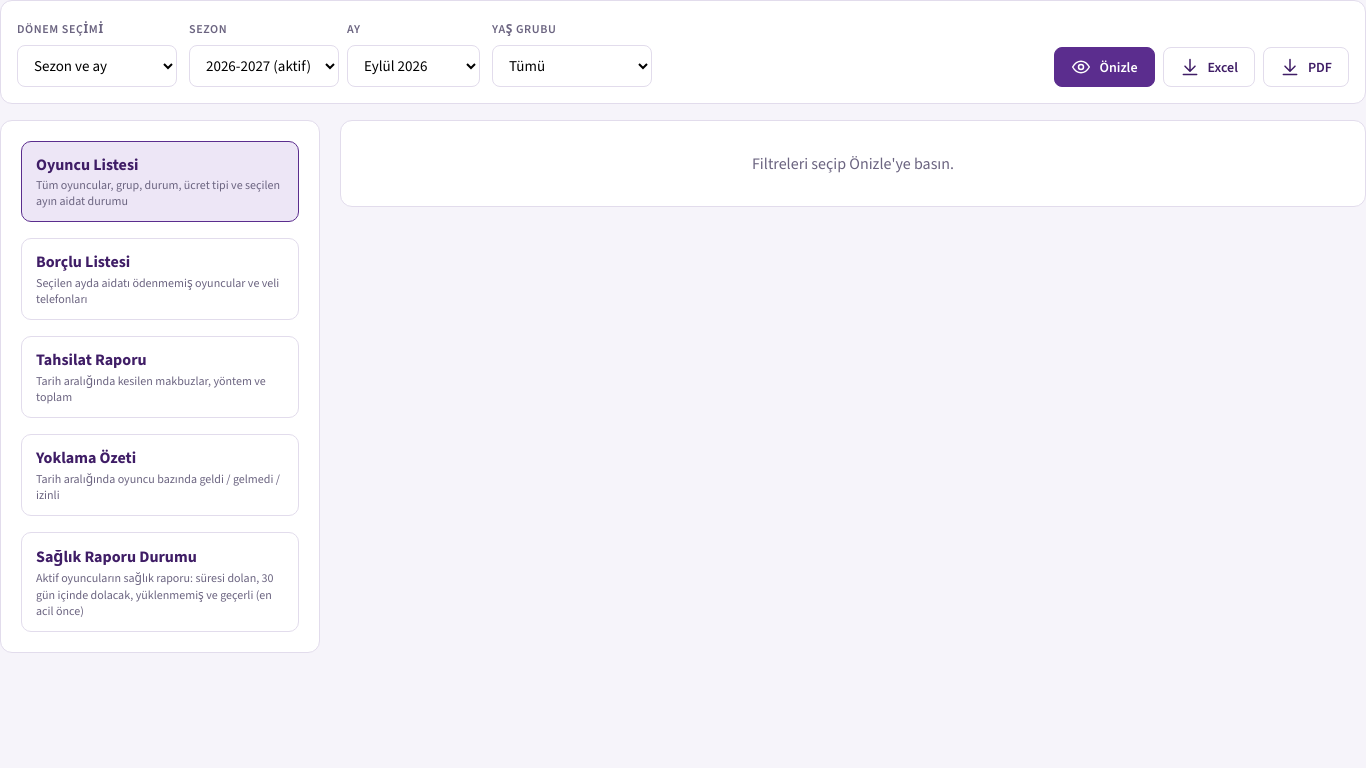
Test case: Raporlar: yeni Önizle ilk sayfaya döner › 2. sayfadayken Önizle → 1–100 gösterilir
Click the button "Önizle" at (1104, 67), box [1054, 47, 1154, 87]
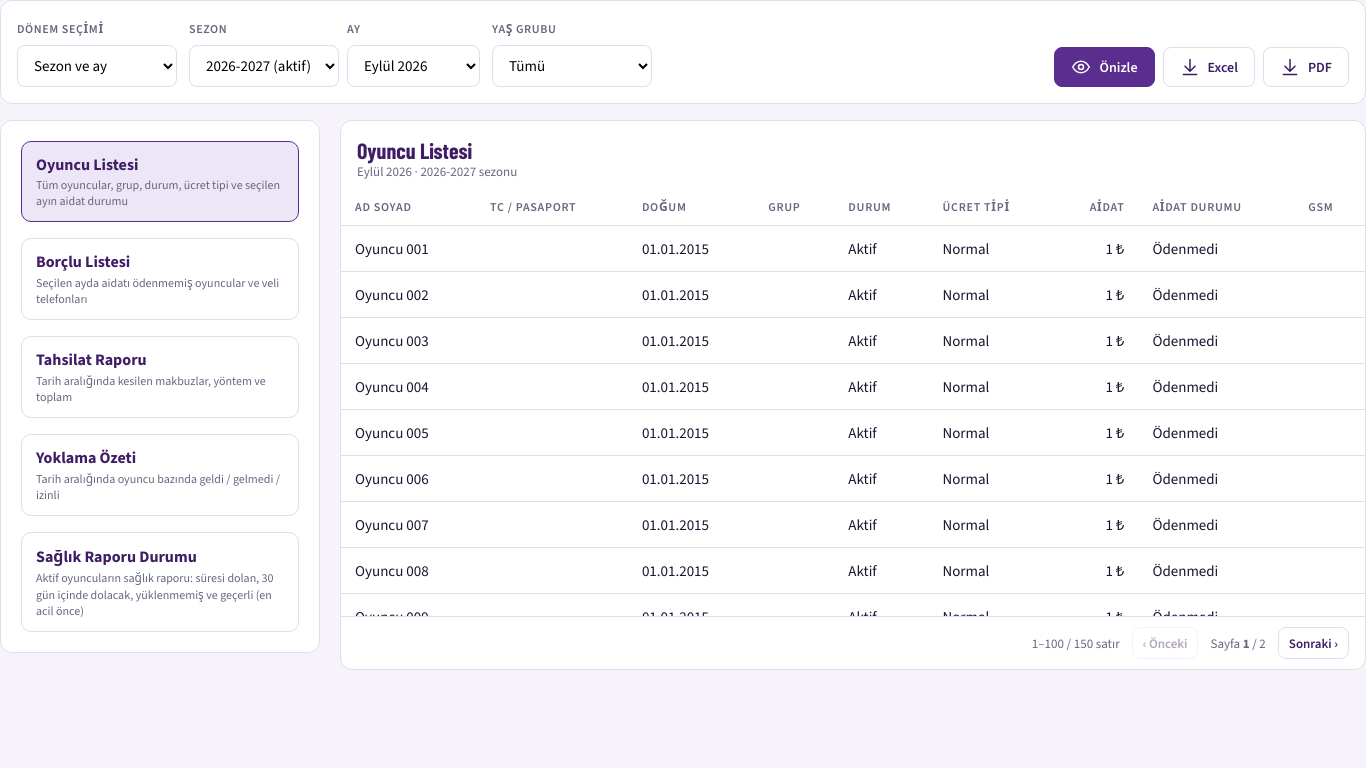
Check: the text "1–100 / 150 satır" is shown, box [1032, 634, 1120, 652]
Click the button with aria-label "Sonraki sayfa" at (1313, 643), box [1278, 627, 1349, 659]
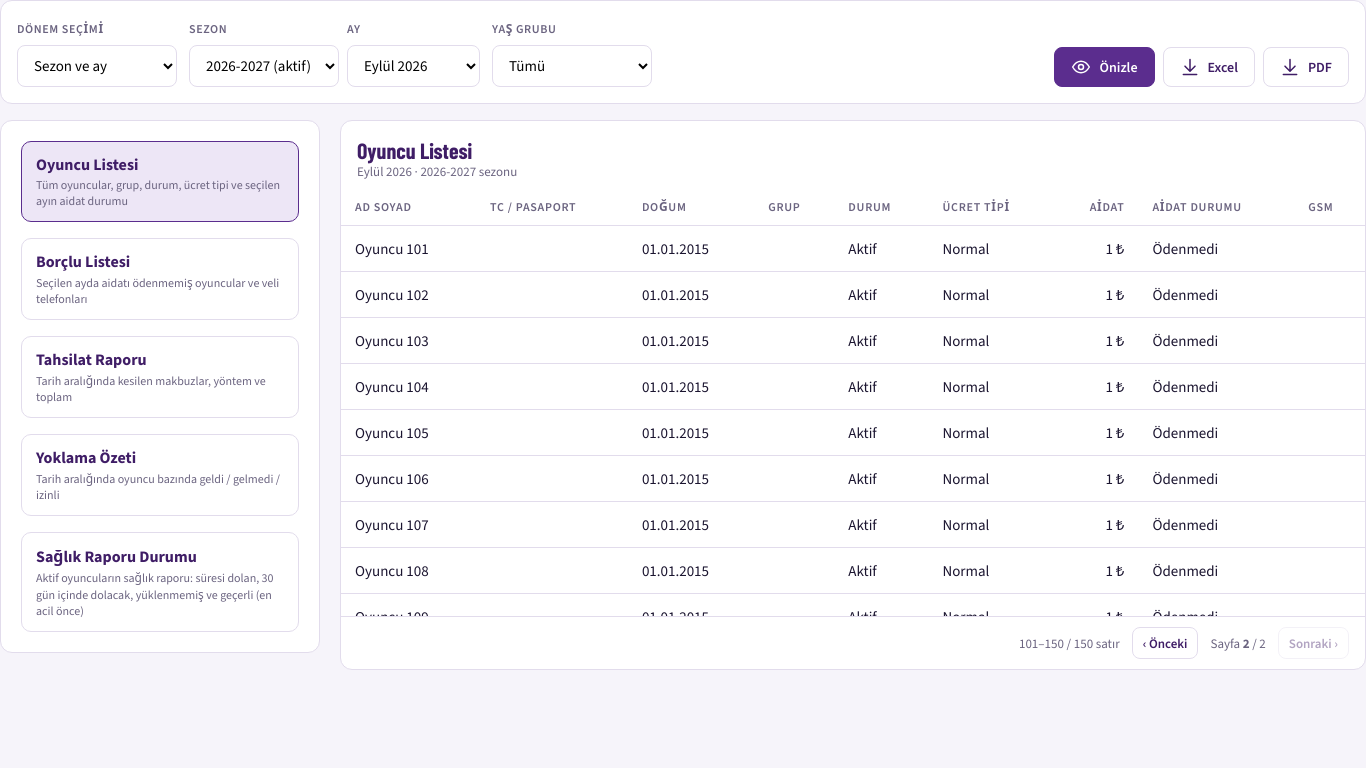
Check: the text "101–150 / 150 satır" is shown, box [1019, 634, 1120, 652]
Click the button "Önizle" at (1104, 67), box [1054, 47, 1154, 87]
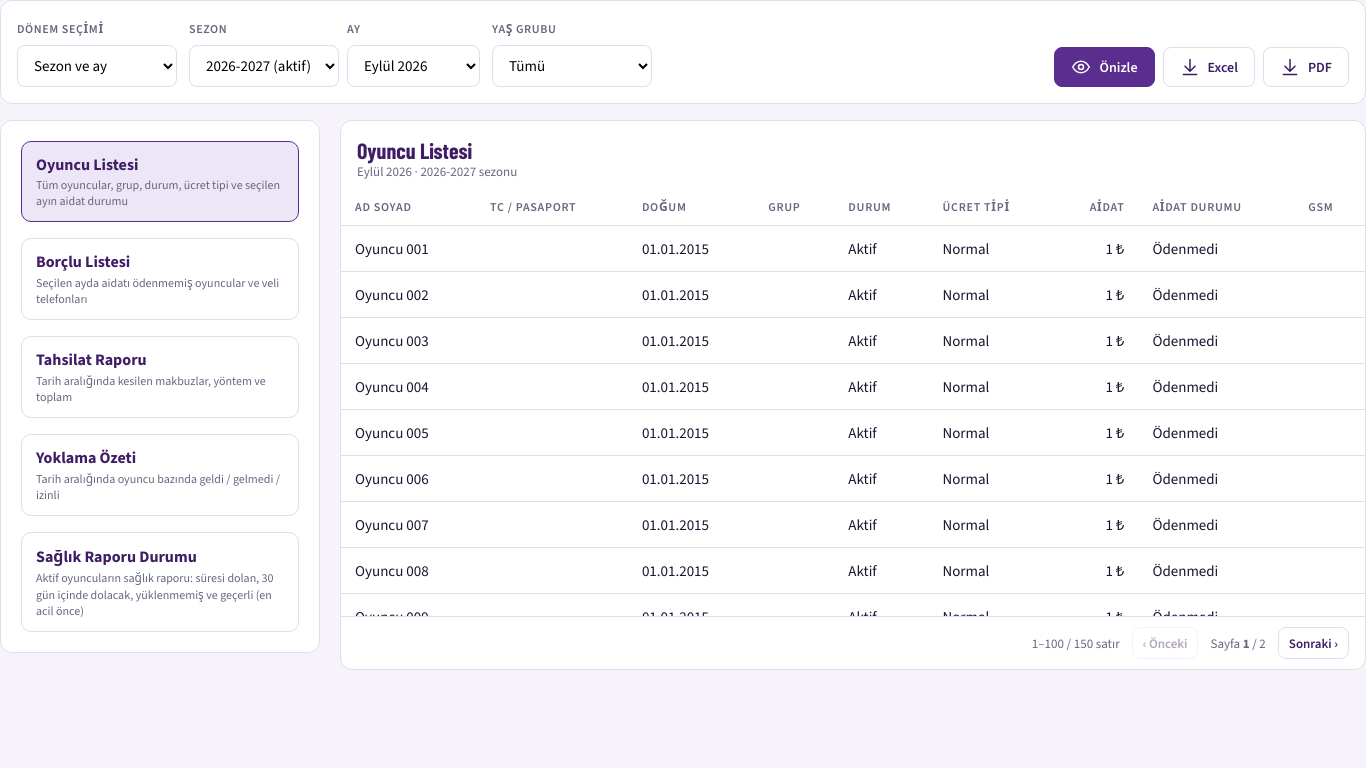
Check: the text "1–100 / 150 satır" is shown, box [1032, 634, 1120, 652]
Check: the text "Oyuncu 001" is shown, box [341, 226, 476, 272]
